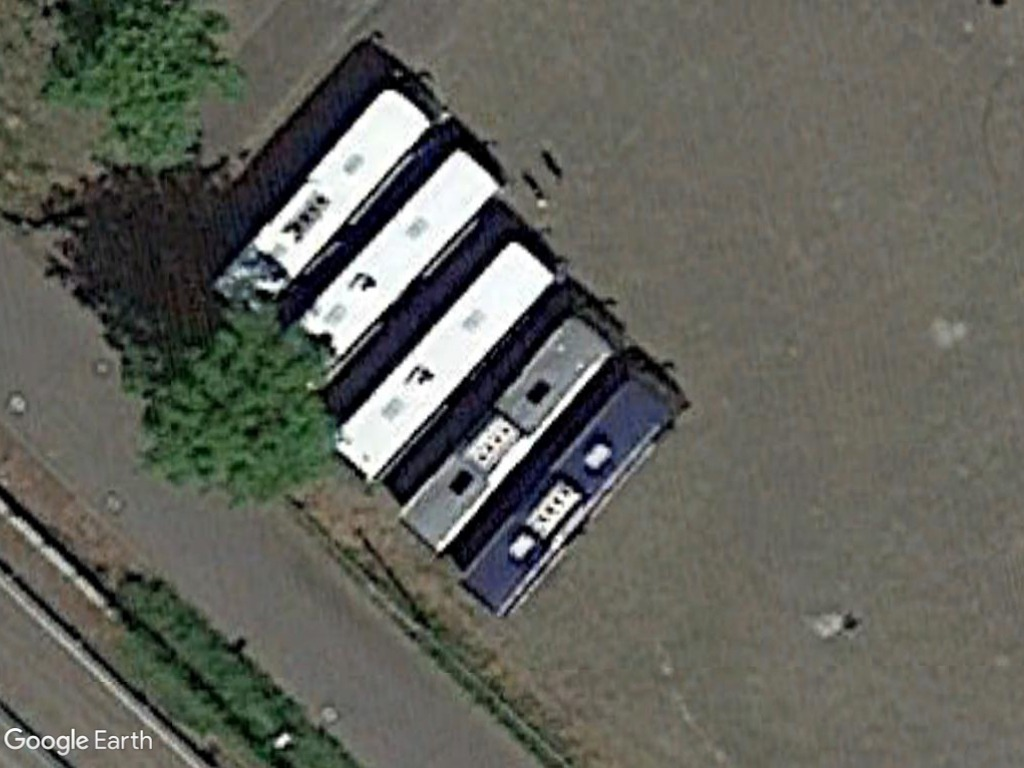bus: (451, 367, 685, 623), (326, 239, 564, 488), (279, 144, 512, 394), (208, 83, 442, 325), (391, 313, 622, 558)
